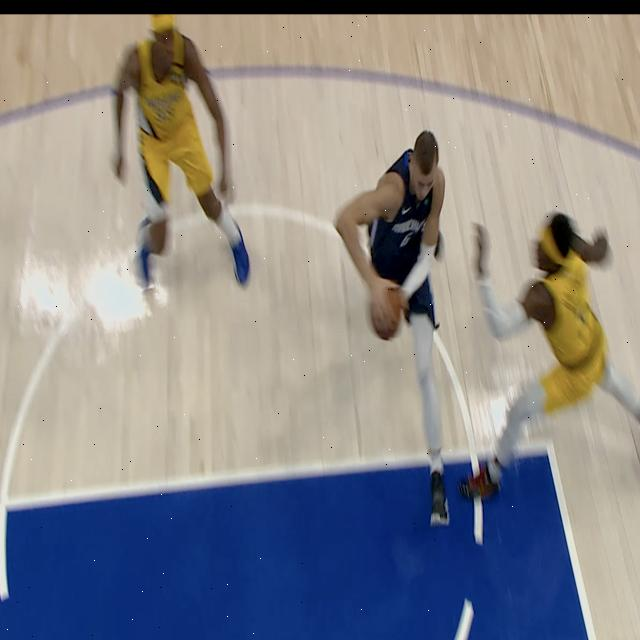no foul: (323, 105, 640, 572)
